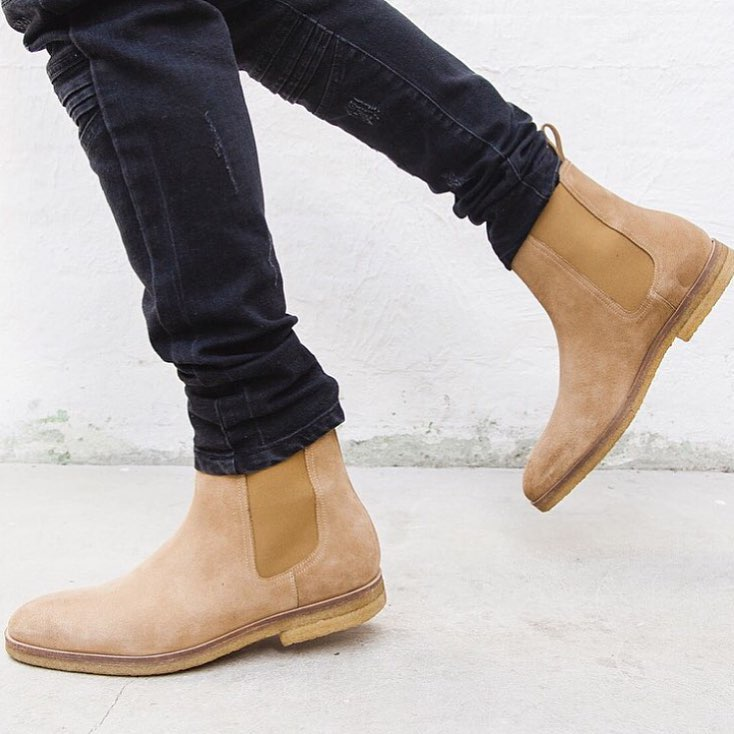sneaker: (1, 357, 412, 701), (457, 96, 734, 553)
